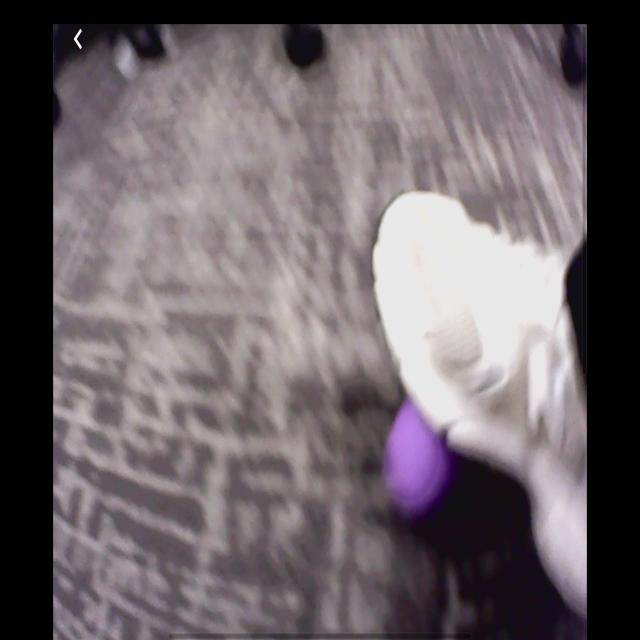ball: (389, 404, 449, 514)
